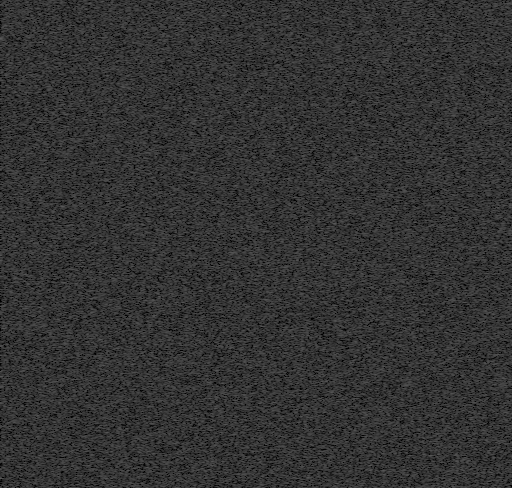wv_am: (160, 0, 165, 248), (160, 289, 165, 488), (160, 250, 165, 265), (160, 280, 165, 287), (160, 266, 165, 273), (160, 274, 165, 279)
wv_cw: (17, 0, 22, 488), (80, 0, 85, 488), (100, 0, 104, 488)
wv_lsb: (37, 133, 41, 164), (37, 101, 41, 127), (37, 384, 41, 401), (37, 180, 41, 195), (37, 197, 41, 210), (37, 243, 41, 255), (37, 333, 41, 344), (37, 224, 41, 234), (37, 372, 41, 381), (38, 289, 41, 300), (37, 361, 41, 369), (37, 274, 41, 281), (37, 256, 41, 263), (37, 172, 41, 179), (38, 418, 41, 426), (37, 282, 41, 288), (37, 71, 41, 77), (38, 322, 41, 329), (37, 407, 41, 412), (37, 350, 41, 355), (37, 237, 41, 242), (37, 165, 41, 170), (38, 314, 41, 320), (37, 345, 41, 349), (37, 301, 41, 305), (37, 218, 41, 222), (37, 96, 41, 100), (37, 91, 41, 95), (37, 86, 41, 90), (37, 81, 41, 85), (37, 60, 41, 64), (37, 433, 41, 436), (38, 402, 41, 406), (38, 356, 41, 360), (38, 308, 41, 312), (38, 265, 41, 269), (37, 212, 41, 215), (37, 66, 41, 69), (37, 51, 41, 54), (37, 46, 41, 49), (37, 41, 41, 44), (37, 30, 41, 33), (38, 475, 41, 479), (38, 458, 41, 461), (38, 413, 41, 416), (38, 270, 41, 273)
wv_wbfm: (275, 113, 376, 488), (278, 0, 363, 109), (276, 47, 286, 50), (358, 32, 367, 35), (277, 10, 284, 13), (365, 14, 371, 17), (368, 41, 372, 44)
